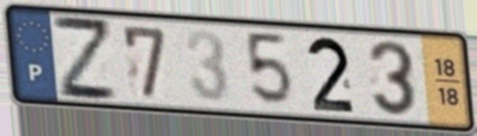2: (305, 34, 357, 115)
3: (365, 38, 417, 119), (183, 27, 232, 106)
5: (240, 31, 296, 111)
7: (119, 24, 169, 101)
Z: (49, 12, 122, 104)
